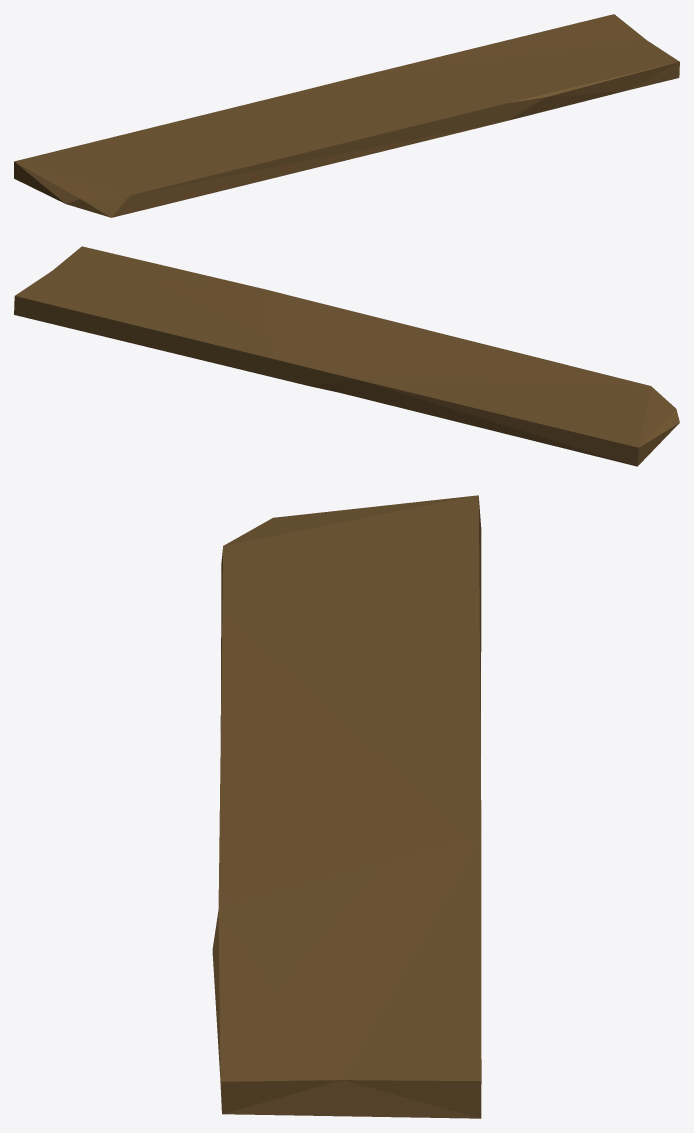
The model's file is Board_05.fbx.
3 renders of one model, top to bottom at view 1: azimuth 30°, elevation 25°; view 2: azimuth 150°, elevation 25°; view 3: azimuth 270°, elevation 25°, orthographic. The views are drawn at different scales.
Parts seen in each view (by area): view 1: Board_05; view 2: Board_05; view 3: Board_05.
Boxes of the visible parts, <box> form: Board_05: <box>14,14,679,217</box>; Board_05: <box>14,246,679,466</box>; Board_05: <box>212,495,481,1118</box>.
Bounding box in the file's own units: 1.62 × 0.0504 × 0.3141.
